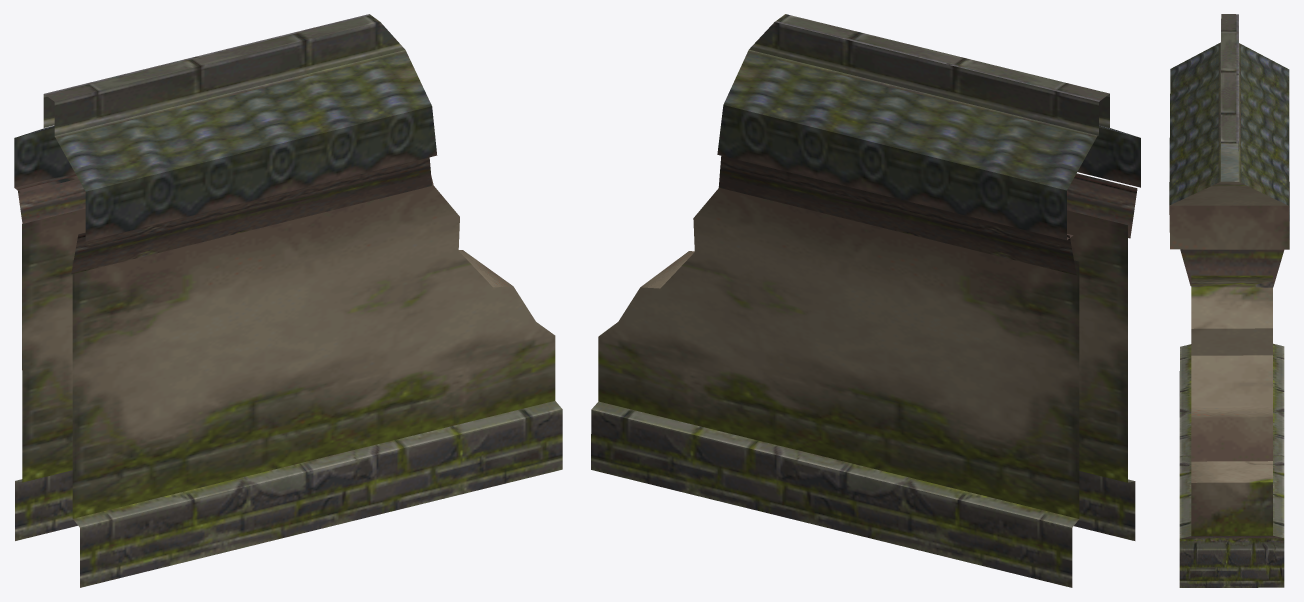
File: 4009_Item_qiang_broken_5.FBX
3 renders of one model, left to right at view 1: azimuth 30°, elevation 25°; view 2: azimuth 150°, elevation 25°; view 3: azimuth 270°, elevation 25°, orthographic. The views are drawn at different scales.
Visible parts, largest first — view 1: 4009_Item_qiang_broken_5; view 2: 4009_Item_qiang_broken_5; view 3: 4009_Item_qiang_broken_5.
Boxes of the visible parts, box(x1,y1,x2,y2) form: 4009_Item_qiang_broken_5: box(14, 14, 562, 587); 4009_Item_qiang_broken_5: box(591, 14, 1140, 587); 4009_Item_qiang_broken_5: box(1169, 14, 1289, 587).
Size of the model in its own units: 364 by 336 by 95.96.
